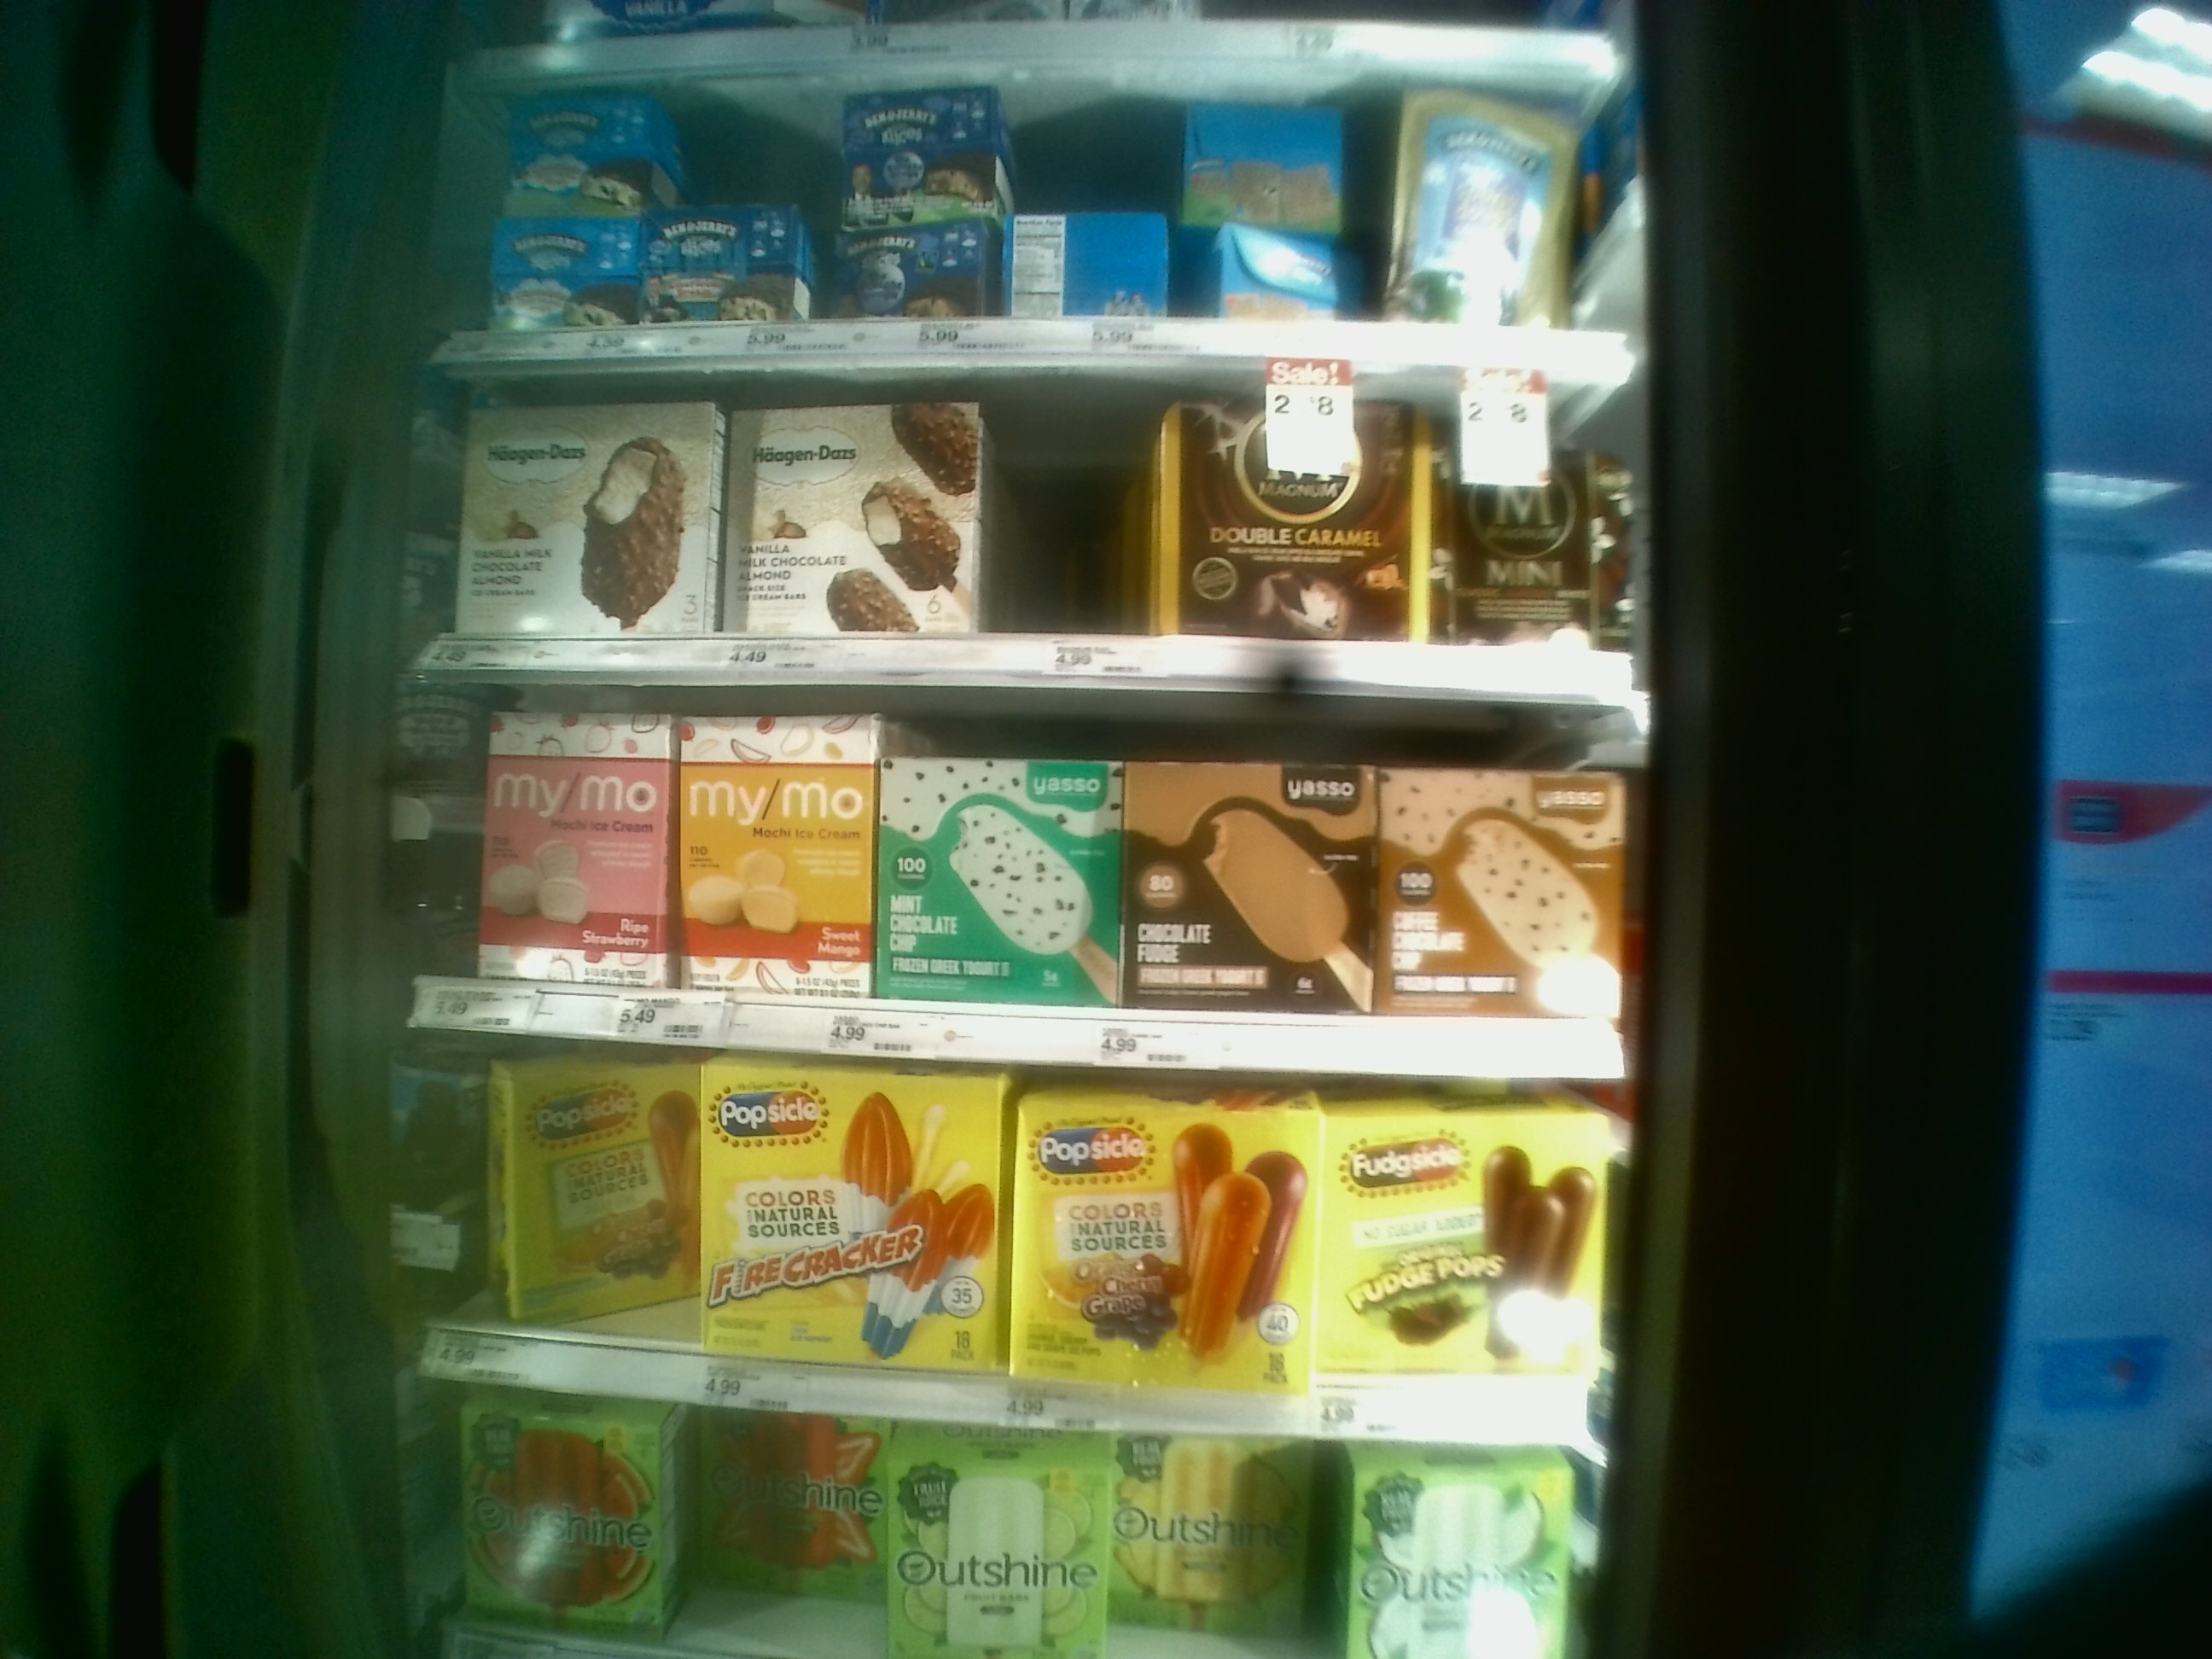shelf: (392, 1023, 1623, 1457), (406, 666, 1611, 1080), (415, 362, 1644, 687), (399, 51, 1644, 369)
